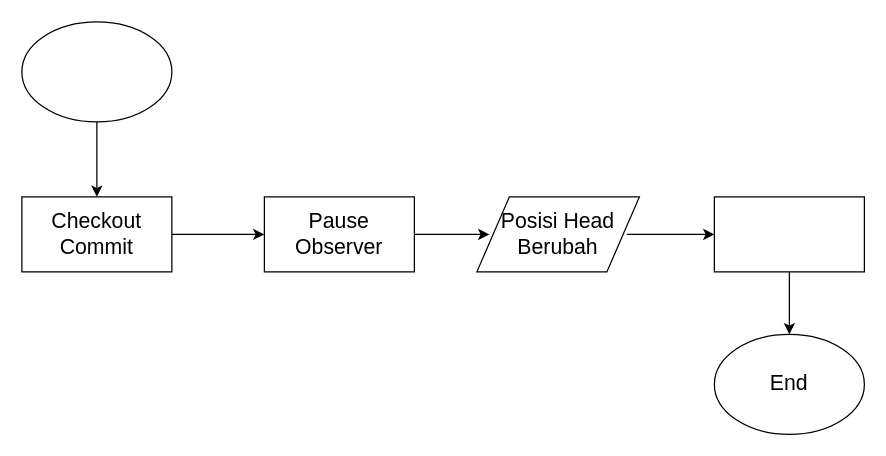
This 886x456 diagram has some shape labels left out. Here are the shapes that lost their labels. From the top down, the centre of each, then its label:
At point (96, 71): "Start".
At point (788, 234): "Start Observer".
